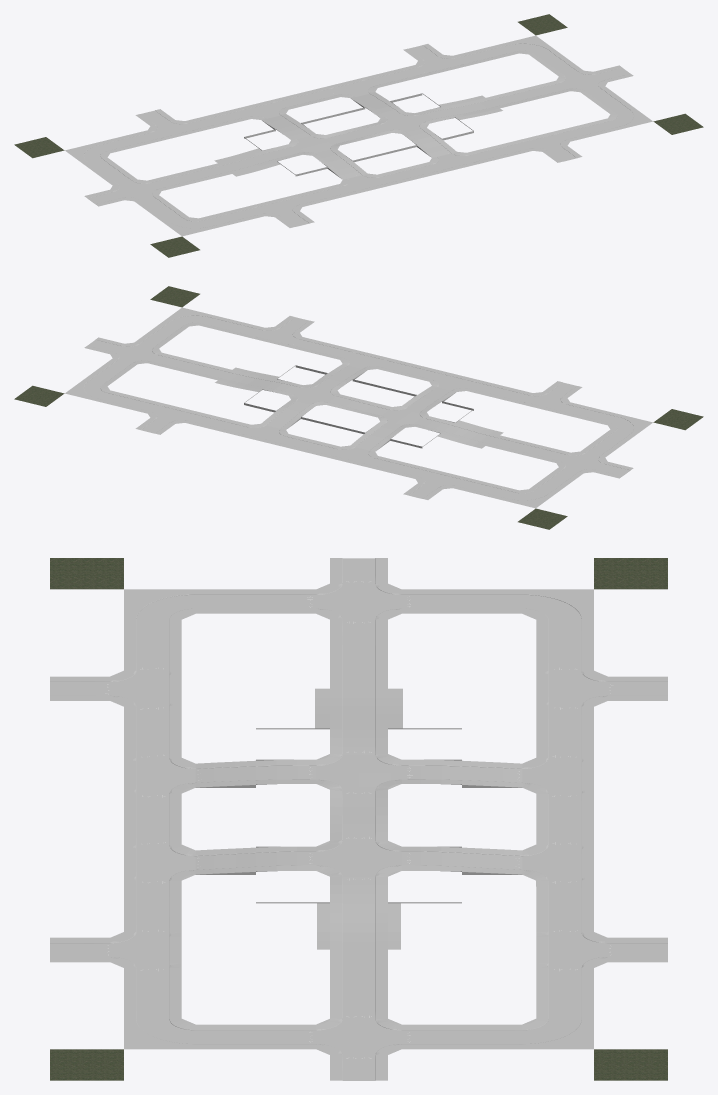
The model's file is Double-Block-03-Slope-02.fbx.
3 views of the same model, one above another, from view 1: azimuth 30°, elevation 25°; view 2: azimuth 150°, elevation 25°; view 3: azimuth 270°, elevation 25° (orthographic). The views are drawn at different scales.
Parts seen in each view (by area): view 1: Double-Block-03, Double-Block-03-B, Double-Block-03-Sidewalk, Double-Block-03-Sidewalk-B; view 2: Double-Block-03, Double-Block-03-B, Double-Block-03-Sidewalk, Double-Block-03-Sidewalk-B; view 3: Double-Block-03-B, Double-Block-03, Double-Block-03-Sidewalk-B, Double-Block-03-Sidewalk.
Boxes of the visible parts, x1,y1,x2,y2 form: Double-Block-03: (14,95,414,257); Double-Block-03-B: (303,14,703,176); Double-Block-03-Sidewalk: (65,93,417,236); Double-Block-03-Sidewalk-B: (301,35,652,178); Double-Block-03: (303,367,703,529); Double-Block-03-B: (14,286,414,448); Double-Block-03-Sidewalk: (300,365,652,508); Double-Block-03-Sidewalk-B: (65,307,416,450); Double-Block-03-B: (50,815,667,1080); Double-Block-03: (50,558,667,819); Double-Block-03-Sidewalk-B: (50,815,667,1080); Double-Block-03-Sidewalk: (50,558,667,819).
Size of what is drawn, in the model's own units: 600 by 2.61 by 300.
